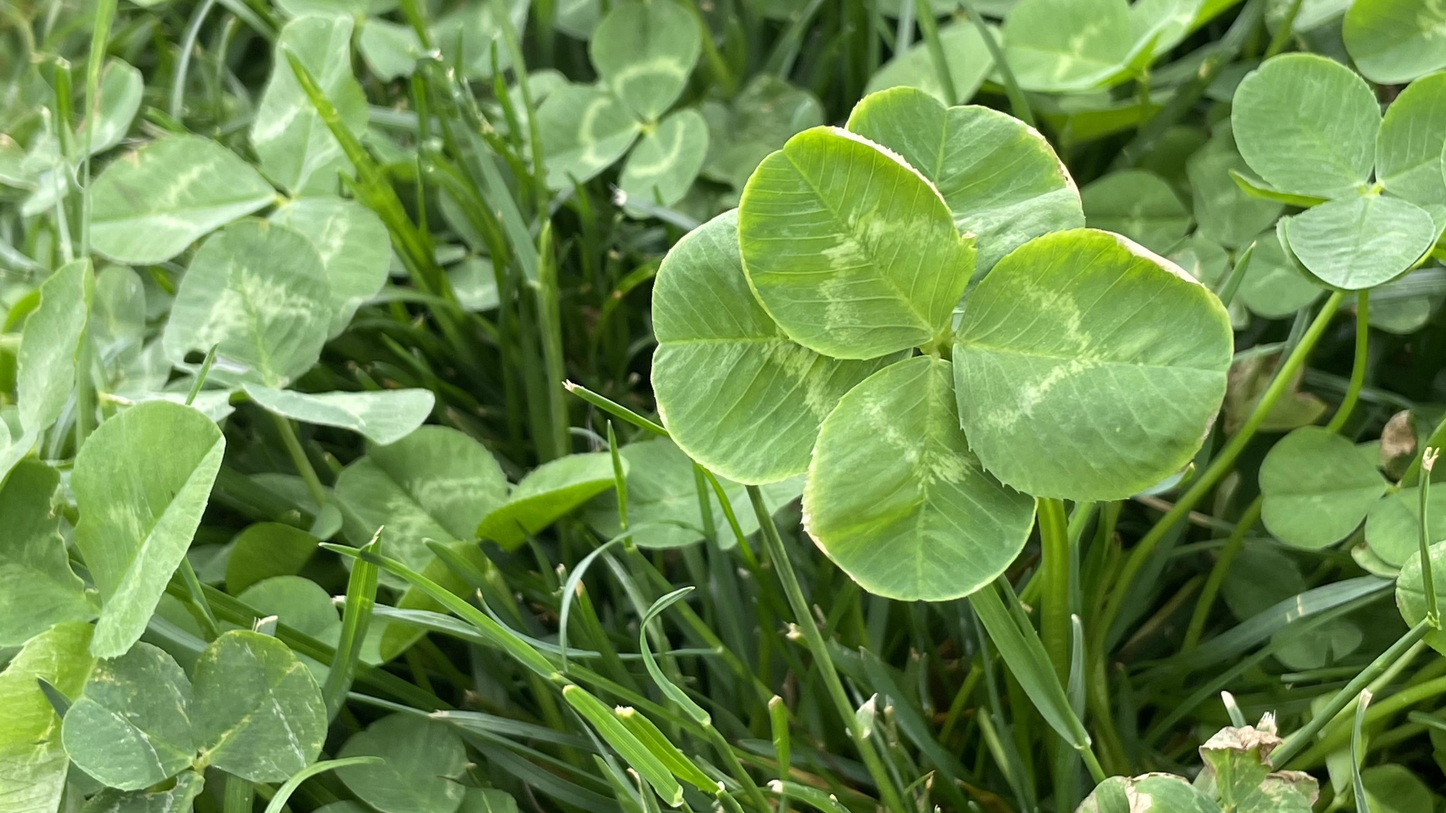5-Leaf-Clovers: (652, 85, 1229, 600)
